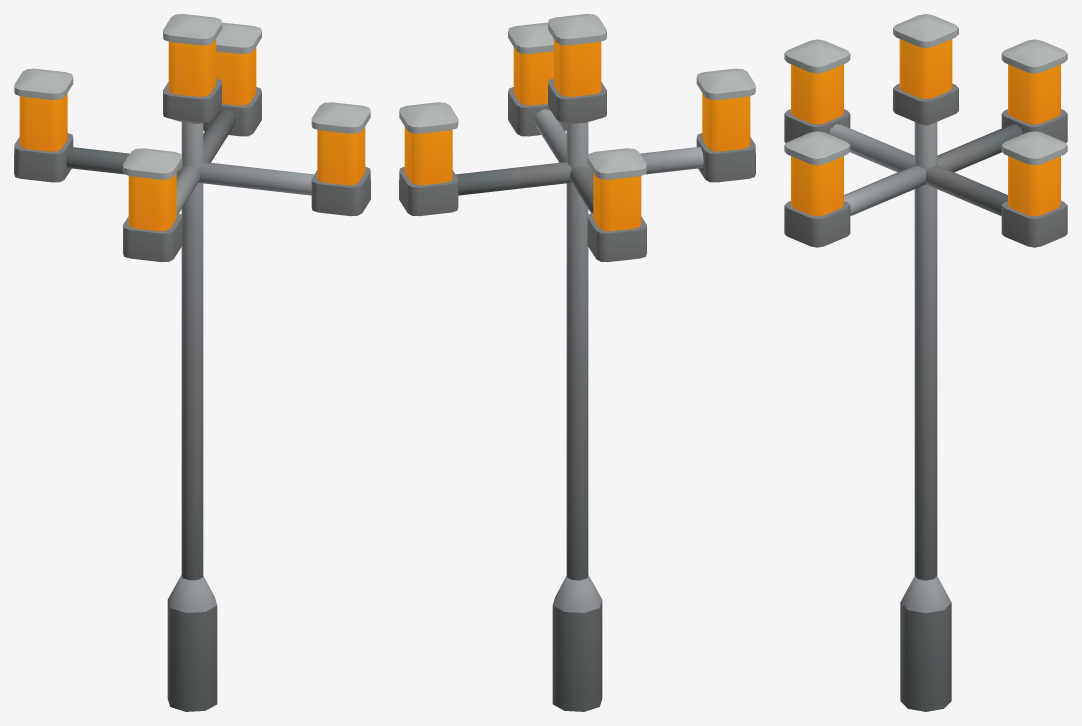
Rendered from city2-lamp-04.glb.
3 renders of one model, left to right at view 1: azimuth 30°, elevation 25°; view 2: azimuth 150°, elevation 25°; view 3: azimuth 270°, elevation 25°, orthographic.
Visible parts, largest first — view 1: Lamp_04; view 2: Lamp_04; view 3: Lamp_04.
Boxes of the visible parts, box(x1,y1,x2,y2) form: Lamp_04: box(14, 14, 370, 711); Lamp_04: box(399, 14, 755, 711); Lamp_04: box(784, 14, 1067, 711).
Bounding box in the file's own units: 1.74 × 4.63 × 1.74.
2 materials, 2 textured.
